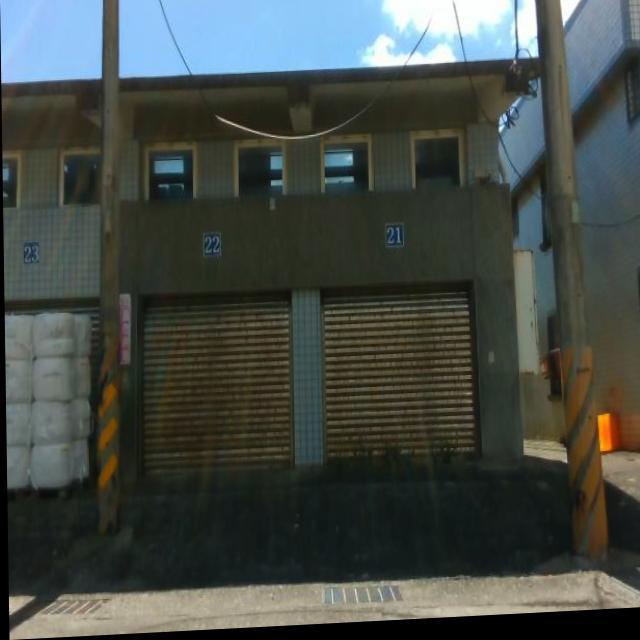pollute: (4, 307, 90, 495), (595, 411, 625, 463)
